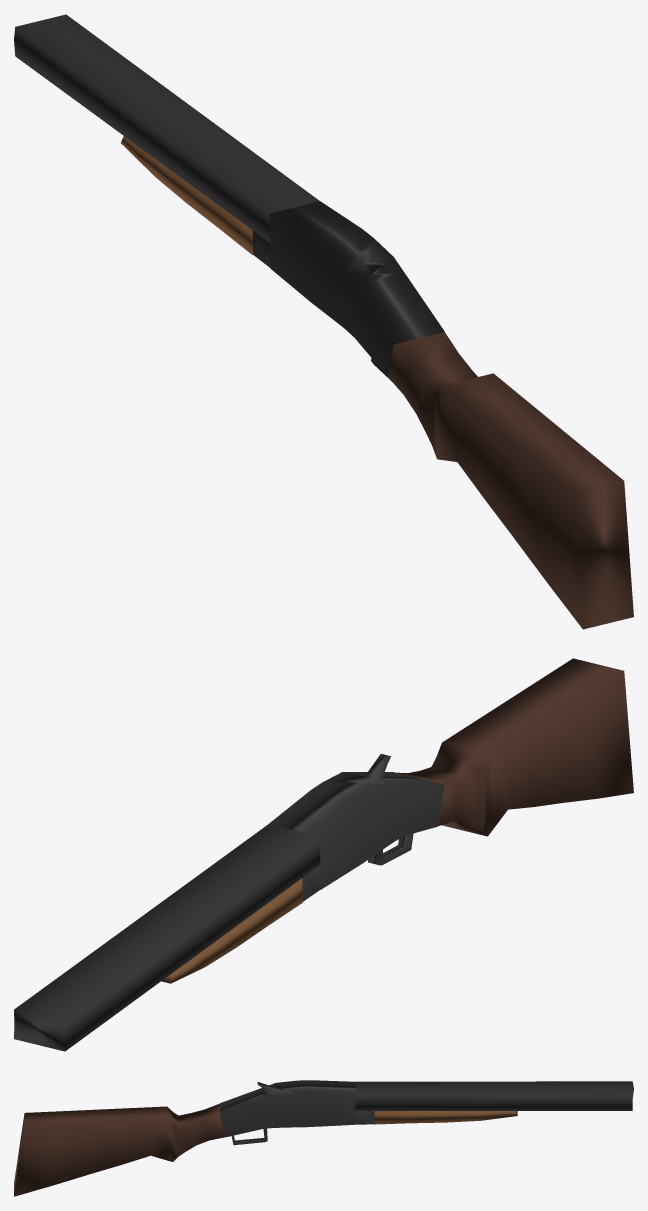
The model's file is shotgun.fbx.
3 renders of one model, top to bottom at view 1: azimuth 30°, elevation 25°; view 2: azimuth 150°, elevation 25°; view 3: azimuth 270°, elevation 25°, orthographic. The views are drawn at different scales.
Parts seen in each view (by area): view 1: Cube.001, Cube.002, Cube, Cube.003; view 2: Cube.001, Cube.002, Cube, Cube.003; view 3: Cube.001, Cube.002, Cube, Cube.003.
Part boxes in pixels (x1=…): Cube.001: x1=388, y1=332, x2=633, y2=629; Cube.002: x1=14, y1=14, x2=319, y2=242; Cube: x1=252, y1=201, x2=444, y2=381; Cube.003: x1=121, y1=136, x2=253, y2=254; Cube.001: x1=397, y1=658, x2=633, y2=836; Cube.002: x1=14, y1=824, x2=320, y2=1051; Cube: x1=269, y1=754, x2=444, y2=901; Cube.003: x1=161, y1=878, x2=302, y2=983; Cube.001: x1=14, y1=1103, x2=226, y2=1196; Cube.002: x1=355, y1=1081, x2=633, y2=1110; Cube: x1=220, y1=1080, x2=374, y2=1145; Cube.003: x1=374, y1=1111, x2=517, y2=1124.
Bounding box in the file's own units: 23.8 × 87.3 × 460.
